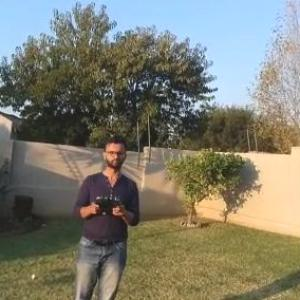follow: (61, 128, 144, 299)
